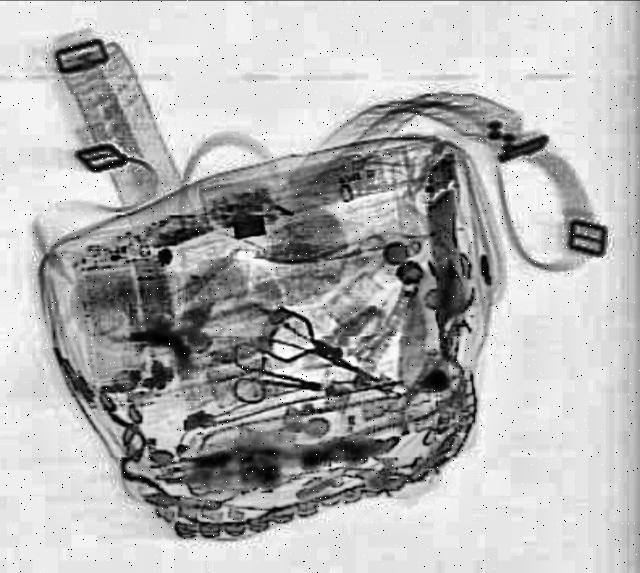Scissors: (220, 343, 332, 417)
